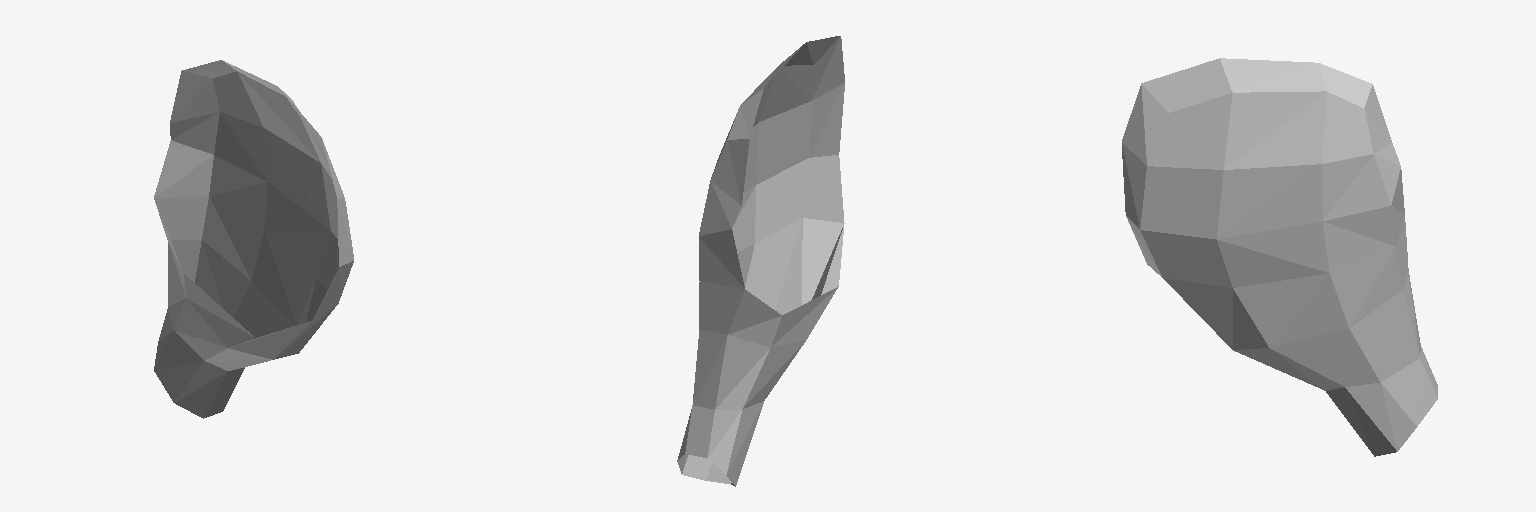
File: 09A_back_left.obj
3 renders of one model, left to right at view 1: azimuth 30°, elevation 25°; view 2: azimuth 150°, elevation 25°; view 3: azimuth 270°, elevation 25°, orthographic.
Visible parts, largest first — view 1: polySurface10 WolfMesh; view 2: polySurface10 WolfMesh; view 3: polySurface10 WolfMesh.
Part boxes in pixels (x1,y1,x2,y2): polySurface10 WolfMesh: (154, 60, 353, 418); polySurface10 WolfMesh: (677, 36, 844, 486); polySurface10 WolfMesh: (1122, 58, 1437, 456).
Size of the model in its own units: 0.3407 by 1.46 by 1.08.